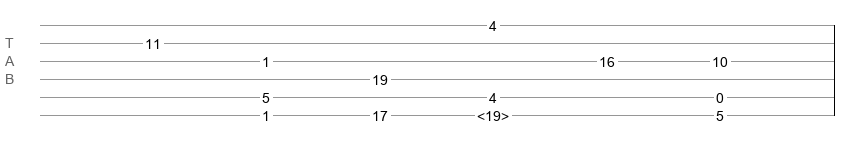0: (716, 90, 724, 100)
1: (262, 54, 270, 64), (262, 108, 270, 118)
10: (712, 54, 728, 64)
11: (145, 36, 161, 46)
16: (599, 54, 615, 64)
17: (372, 108, 388, 118)
19: (372, 72, 388, 82)
4: (489, 18, 497, 28), (489, 90, 497, 100)
5: (262, 90, 270, 100), (716, 108, 724, 118)
harmonic: (477, 108, 509, 118)
